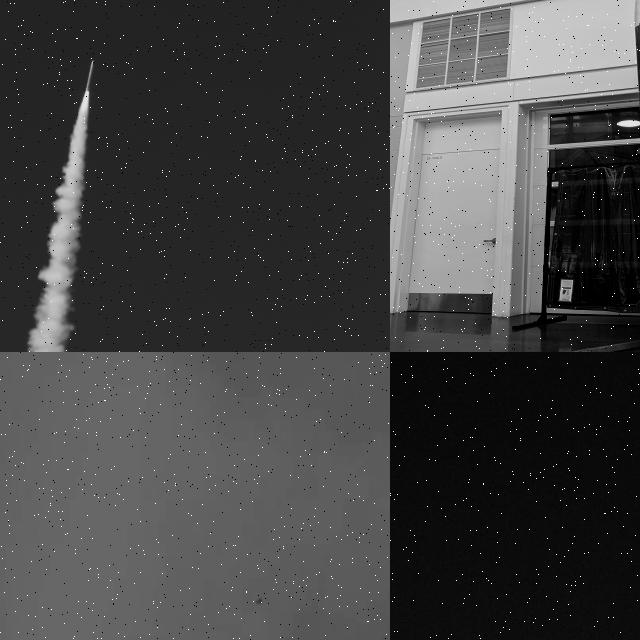Rocket: (83, 60, 95, 92), (255, 598, 262, 604)
